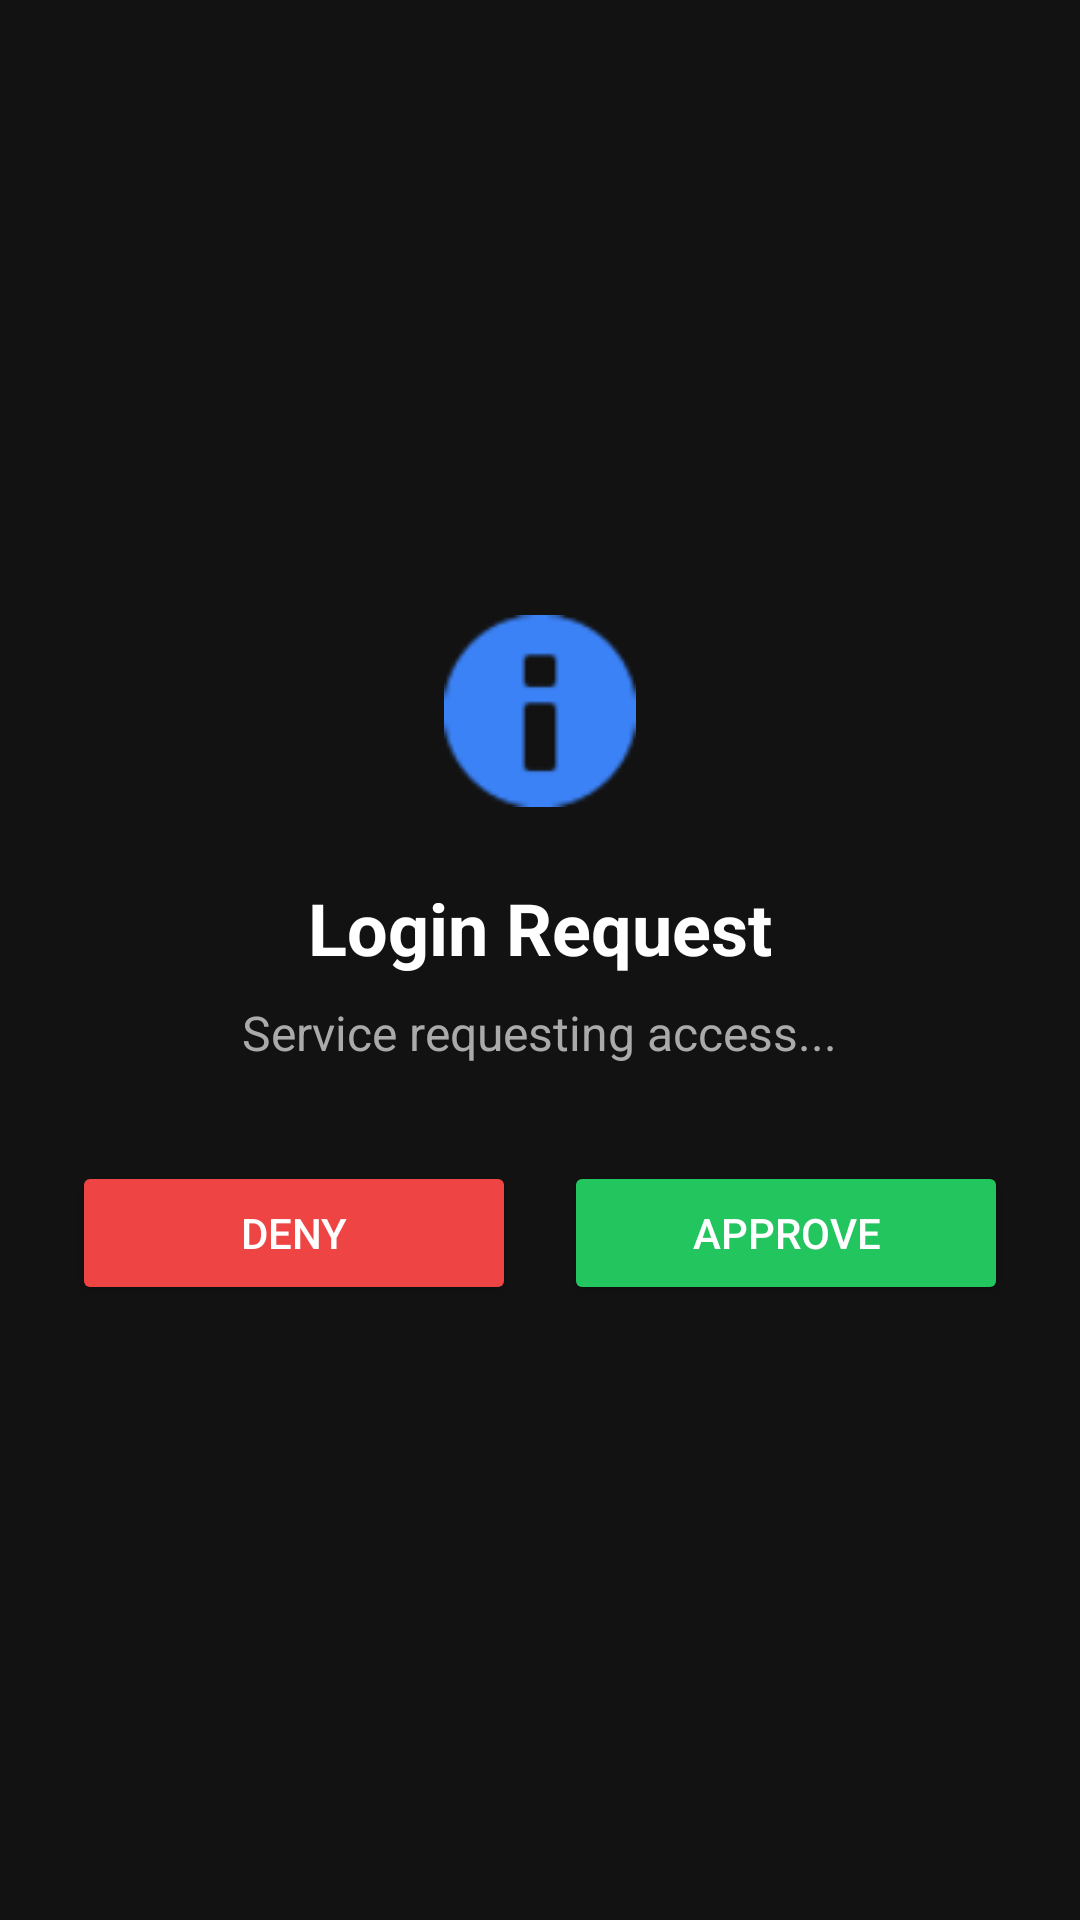

Where icons sit on this 1080w x 1920h app screen, as bbox=[x1, y1, x2, y2]:
info: bbox=[444, 615, 636, 807]
